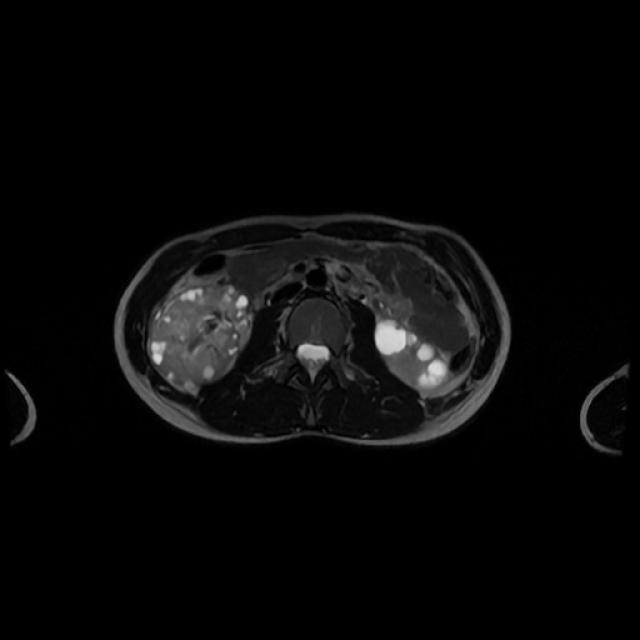sag: (153, 286, 248, 389)
sol: (374, 318, 455, 389)
